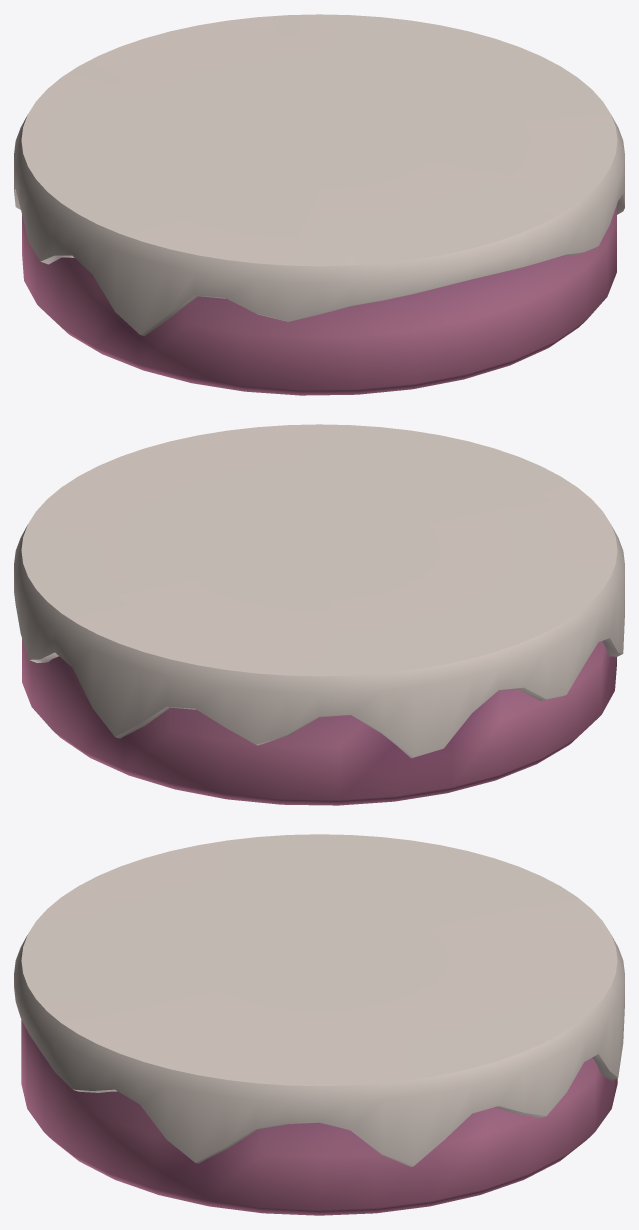
Rendered from giant_cake.glb.
3 renders of one model, top to bottom at view 1: azimuth 30°, elevation 25°; view 2: azimuth 150°, elevation 25°; view 3: azimuth 270°, elevation 25°, orthographic.
Parts seen in each view (by area): view 1: body; view 2: body; view 3: body.
Boxes of the visible parts, x1,y1,x2,y2 form: body: (14,14,624,395); body: (14,424,624,805); body: (14,834,624,1215).
Size of the model in its own units: 1.4 by 0.3501 by 1.4.
